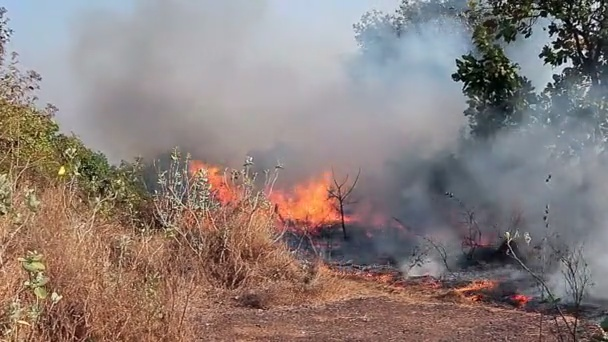fire: (284, 185, 331, 220), (207, 167, 219, 182), (58, 165, 65, 173)
